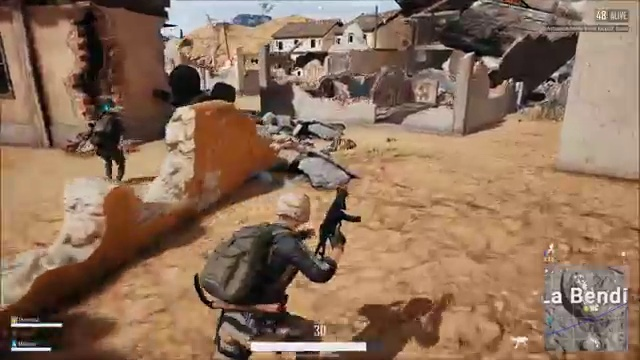Player: (184, 190, 392, 324), (81, 103, 146, 177)
